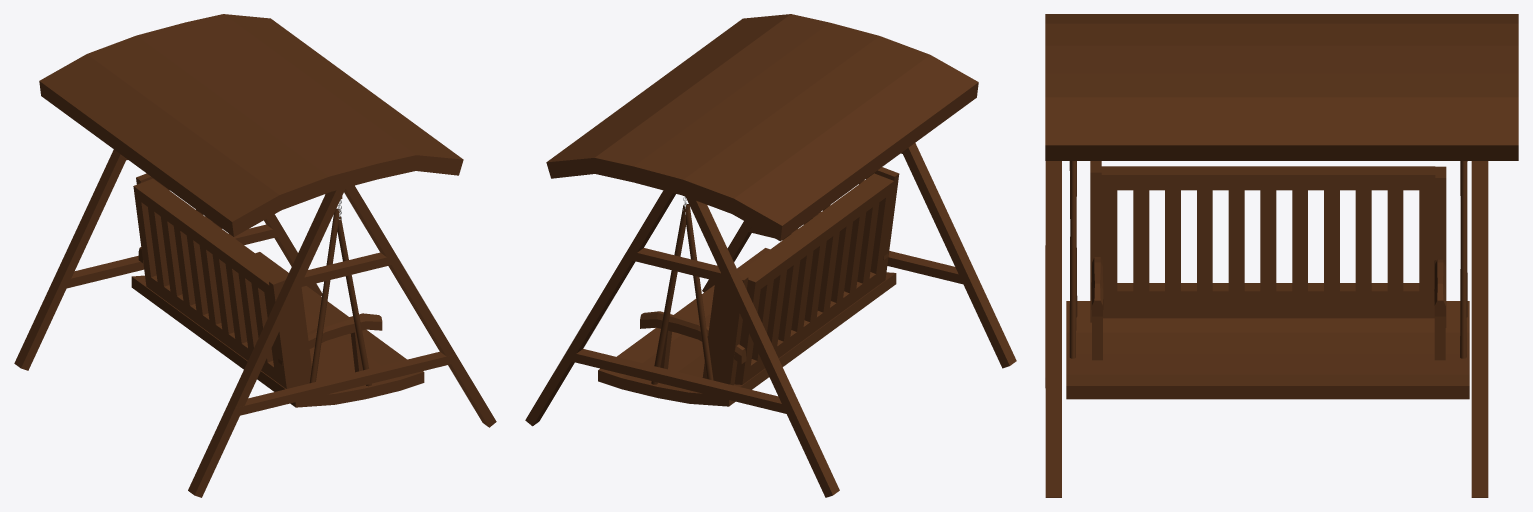
File: uploads_files_3210058_Swing.fbx
3 views of the same model, side by side, from view 1: azimuth 30°, elevation 25°; view 2: azimuth 150°, elevation 25°; view 3: azimuth 270°, elevation 25° (orthographic). The views are drawn at different scales.
Visible parts, largest first — view 1: Cube.006, Cube.014, Cube, Cube.001, Cube.002, Cube.003, Cube.004, Cylinder.004, Cylinder.001; view 2: Cube.006, Cube.014, Cube.001, Cube, Cube.003, Cube.005, Cube.002, Cylinder.003, Cylinder.002; view 3: Cube.014, Cube.006, Cube.001, Cube, Cylinder.001, Cylinder.002.
Part boxes in pixels (<box>): Cube.006: <box>39,14,463,236</box>; Cube.014: <box>131,173,424,407</box>; Cube: <box>188,185,496,497</box>; Cube.001: <box>14,149,322,370</box>; Cube.002: <box>235,351,456,416</box>; Cube.003: <box>61,224,277,289</box>; Cube.004: <box>295,252,396,288</box>; Cylinder.004: <box>309,209,339,383</box>; Cylinder.001: <box>337,208,371,386</box>; Cube.006: <box>546,14,978,241</box>; Cube.014: <box>598,167,899,406</box>; Cube.001: <box>525,190,839,497</box>; Cube: <box>702,143,1016,368</box>; Cube.003: <box>566,349,791,414</box>; Cube.005: <box>627,248,730,283</box>; Cube.002: <box>749,226,962,284</box>; Cylinder.003: <box>685,204,713,380</box>; Cylinder.002: <box>651,205,689,384</box>; Cube.014: <box>1066,161,1469,399</box>; Cube.006: <box>1045,14,1518,160</box>; Cube.001: <box>1471,161,1488,497</box>; Cube: <box>1045,161,1061,497</box>; Cylinder.001: <box>1069,161,1076,358</box>; Cylinder.002: <box>1460,161,1467,358</box>.
Bounding box in the file's own units: 181 × 167 × 200.
